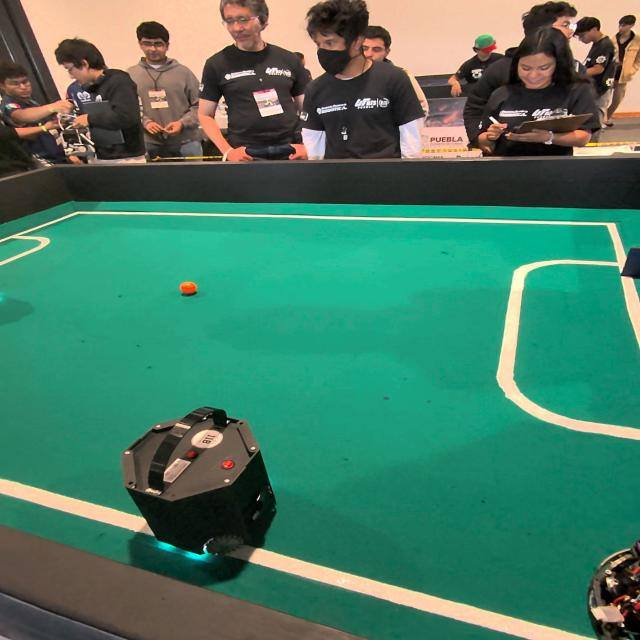Robot: (113, 396, 290, 574), (583, 521, 637, 638)
pelota: (174, 278, 205, 301)
